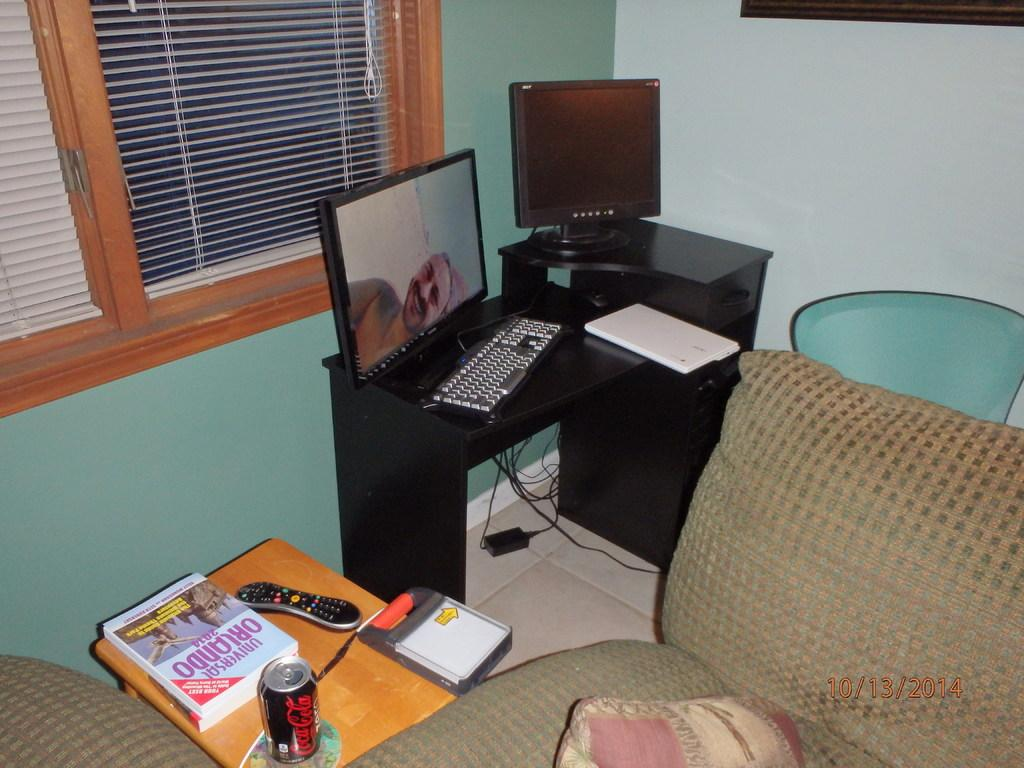Chair: (783, 285, 1023, 431)
Computer-keyboard: (419, 311, 572, 424)
